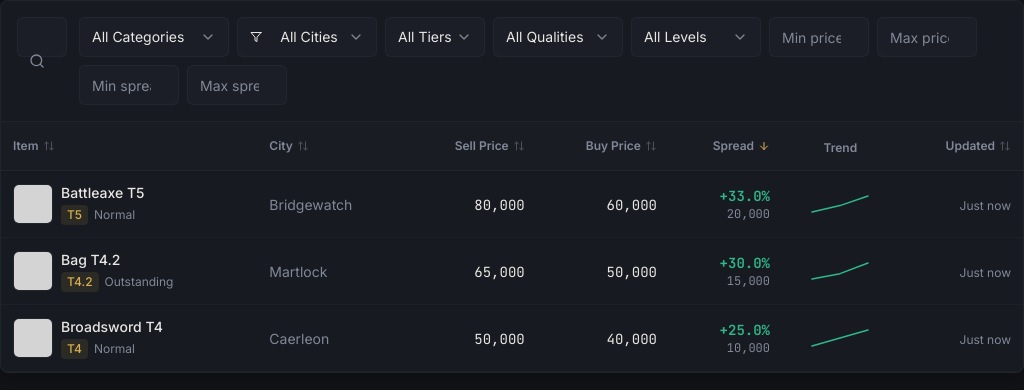
Test: PriceTable — persistência de filtros (AC-5) › AC-1: Salvar filtros no localStorage › deve salvar filtros ao alterar cidade
Step 1. Click the dropdown named "city" → (307,37), box [237,17,377,57]
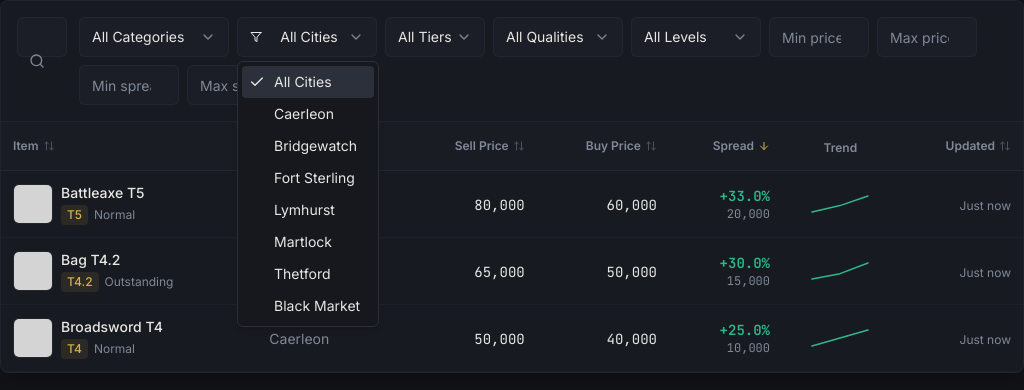
Step 2. Click the option "Caerleon" → (304,114), box [274,105,334,122]
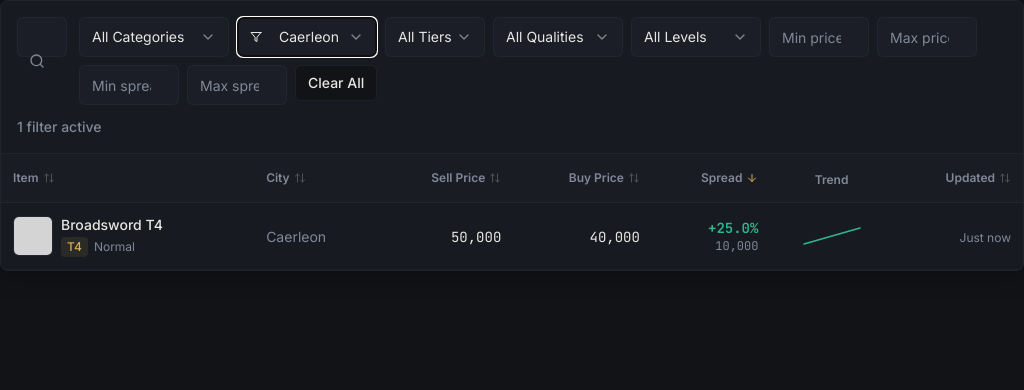
expect the 1st text "Caerleon" is shown: met, box [279,27,339,47]
